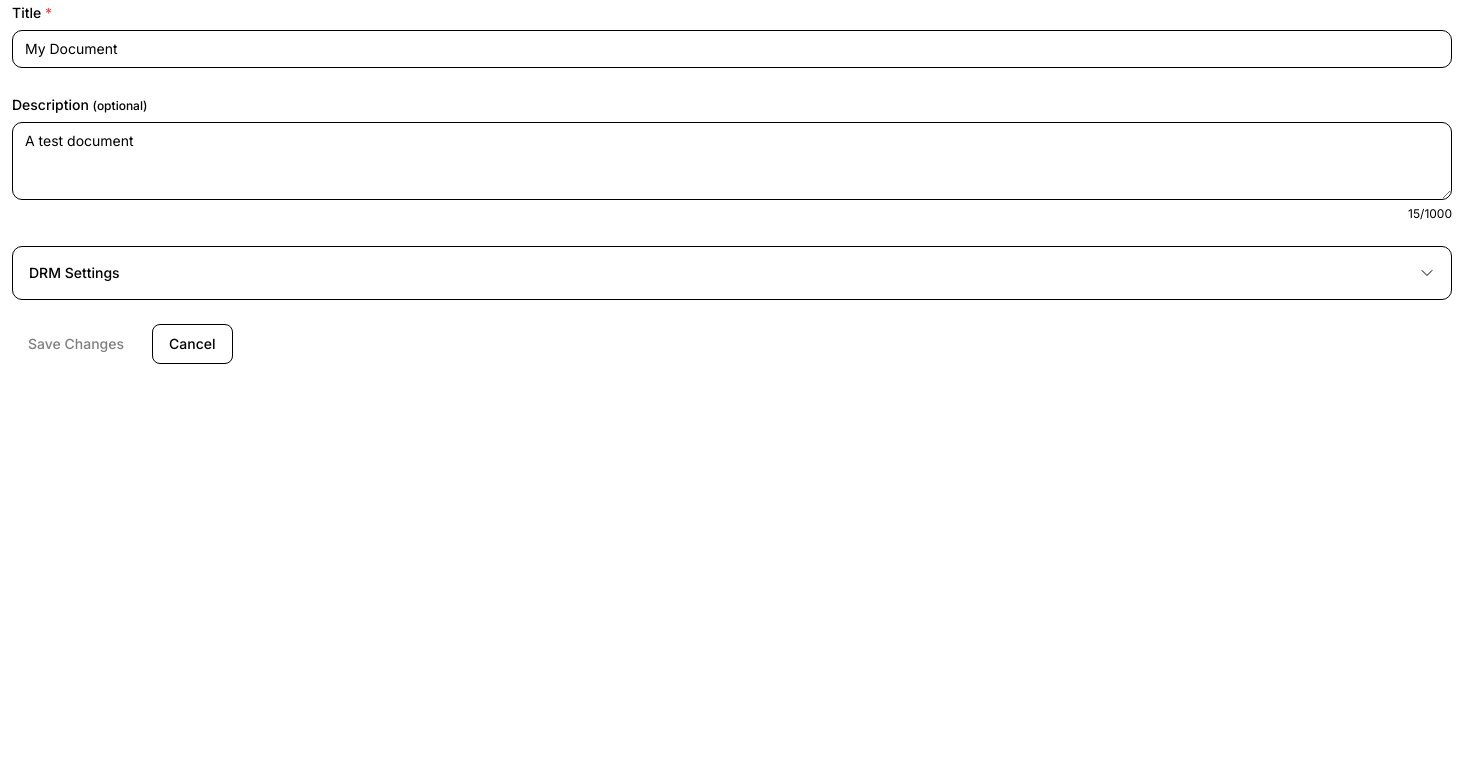
it: DocumentSettingsForm › DRM section toggle › shows DRM fields when clicked
What coordinates should you click on to do the following:
click the button "DRM Settings"
I would click on:
 (74, 272)
Its box is top-left (29, 263), bottom-right (1435, 283).
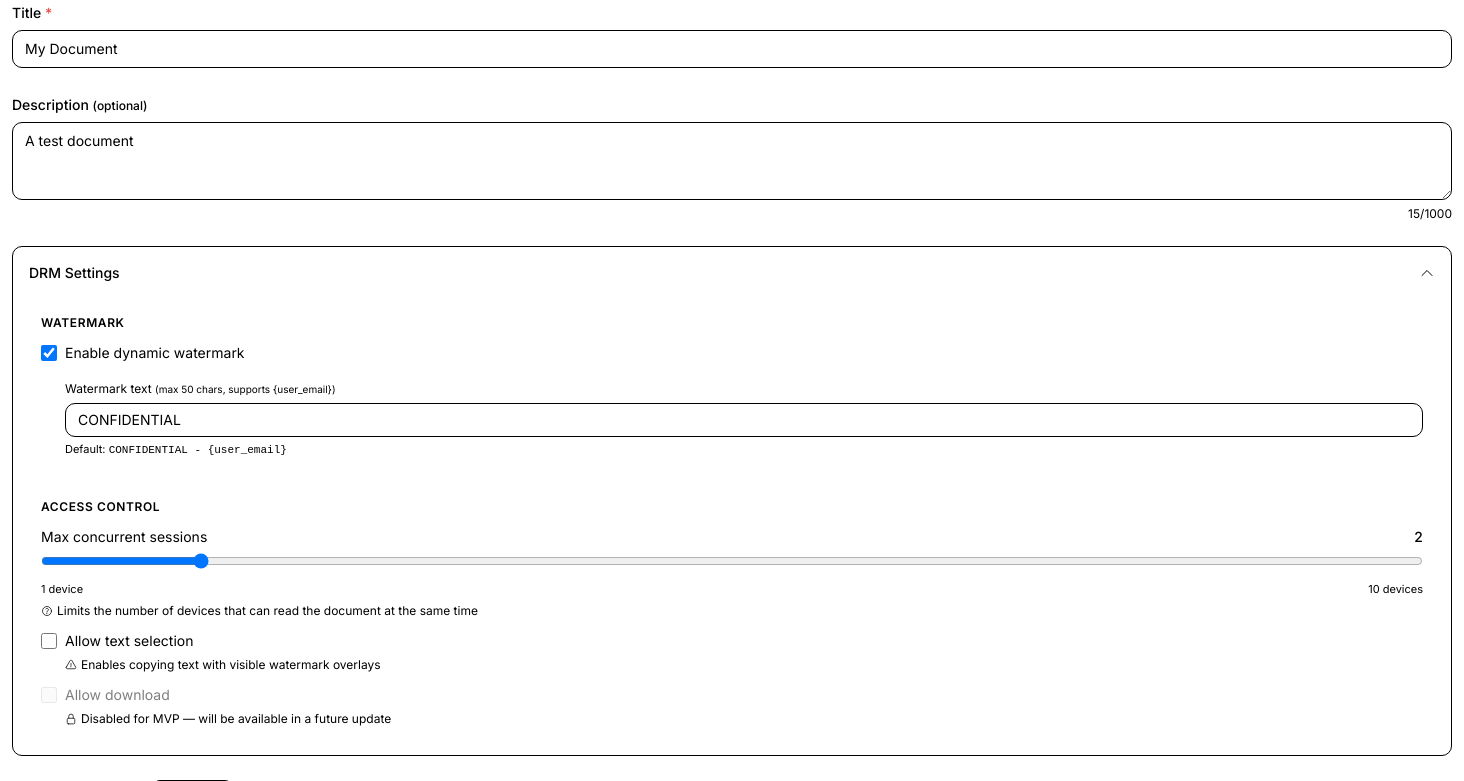
Now the checkbox labelled "Enable dynamic watermark" is shown, box top-left (41, 345), bottom-right (57, 361)
Now the checkbox labelled "Allow text selection" is shown, box top-left (41, 633), bottom-right (57, 649)
